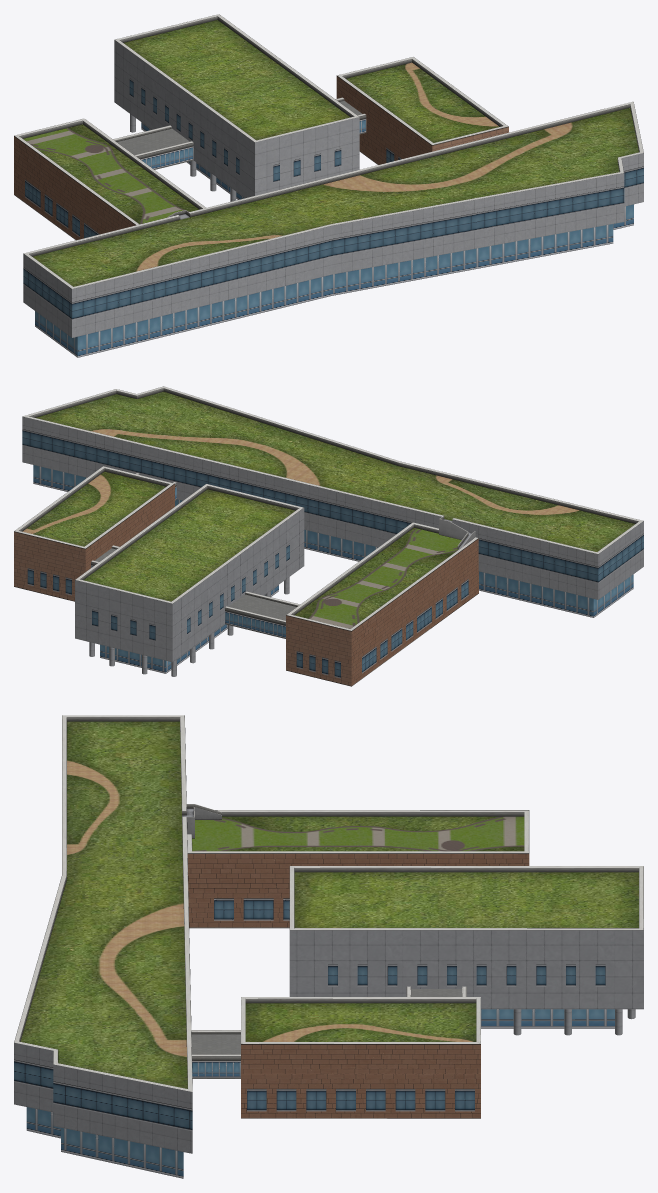
The picture shows the model from 3 angles, top to bottom: view 1: azimuth 30°, elevation 25°; view 2: azimuth 150°, elevation 25°; view 3: azimuth 270°, elevation 25°; orthographic projection. The views are drawn at different scales.
Visible parts, largest first — view 1: MainBuilding; view 2: MainBuilding; view 3: MainBuilding.
Boxes of the visible parts, x1,y1,x2,y2 form: MainBuilding: (14, 14, 643, 357); MainBuilding: (14, 386, 643, 686); MainBuilding: (14, 715, 643, 1178).
Size of the model in its own units: 1.8 by 0.2421 by 1.27.
1 material, 1 textured.
